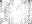person: (4, 21, 8, 23)
